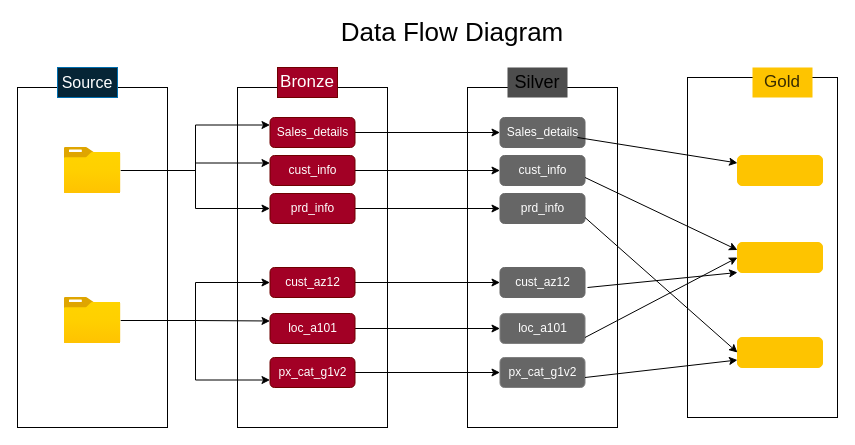
This 855x445 diagram has some shape labels left out. The shapes that lost their labels are listed below. From the top down, each one's centre as x and y in pixels, then its label:
the point at 779,170: fact_sales
the point at 779,257: dim_custtomer
the point at 779,352: dim_product
